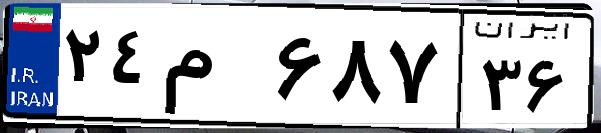2: (57, 26, 110, 100)
3: (475, 38, 525, 113)
4: (110, 28, 158, 98)
6: (270, 28, 330, 110), (525, 38, 570, 115)
7: (385, 28, 445, 110)
8: (330, 28, 385, 110)
م: (158, 20, 270, 120)
